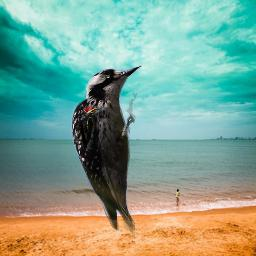Woodpecker: (65, 57, 147, 239), (77, 106, 105, 151)
